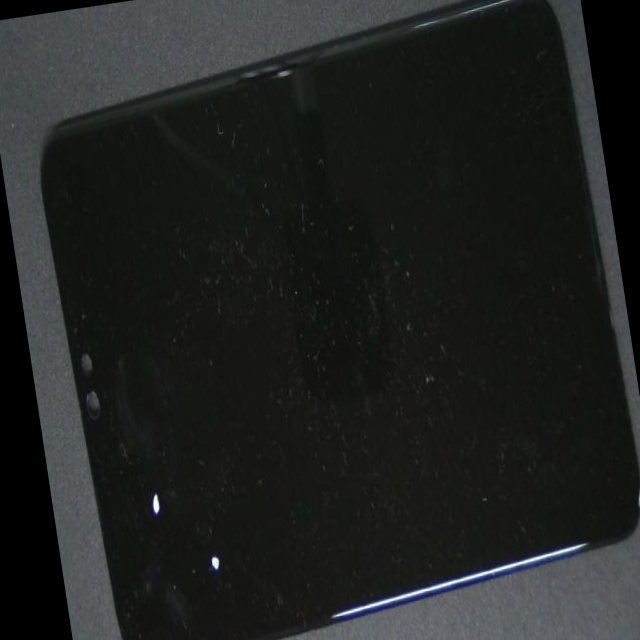stain: (80, 242, 302, 640), (62, 209, 223, 640)
